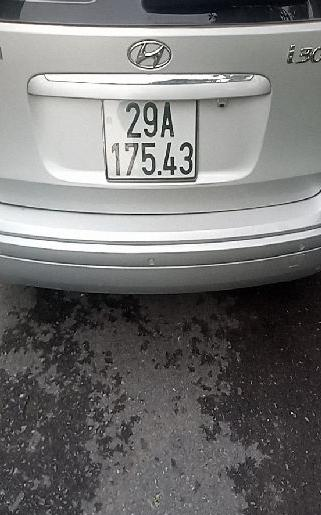Plate-iWeP: (102, 101, 197, 176)
